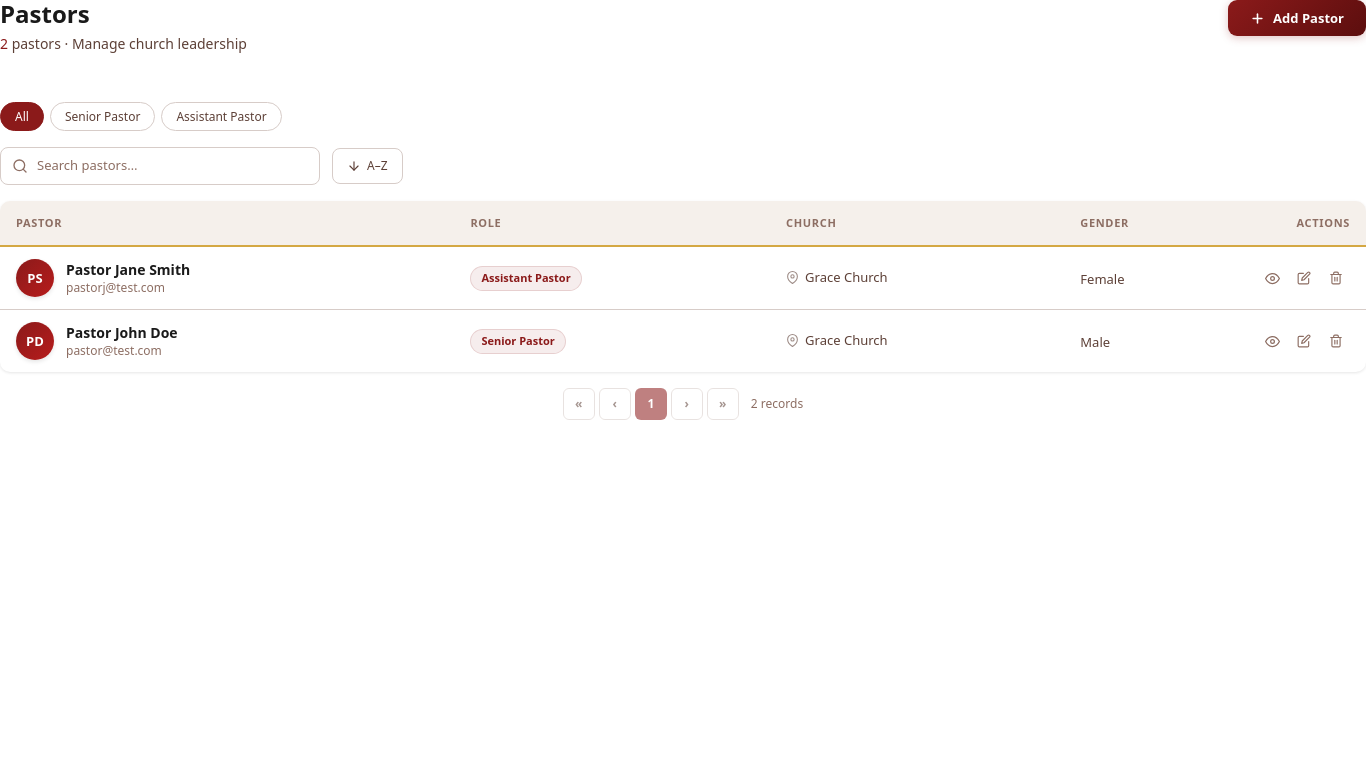
Test: Pastors › opens edit form
Click the button titled "Edit" in the row of "PS": coordinates (1304, 278) [1290,264,1318,292]
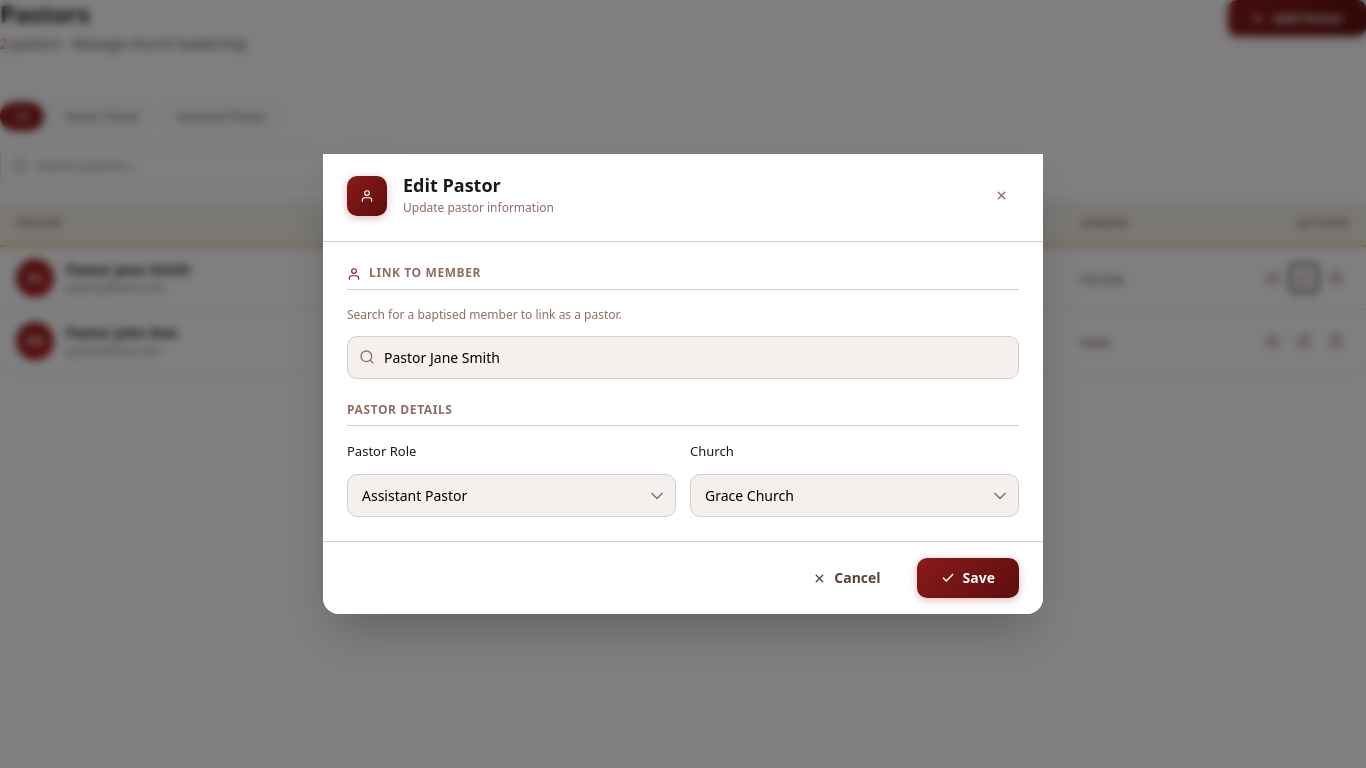
Now the heading "Edit Pastor" is shown, box [403,173,501,197]
Now the text "Update pastor information" is shown, box [403,199,554,216]
